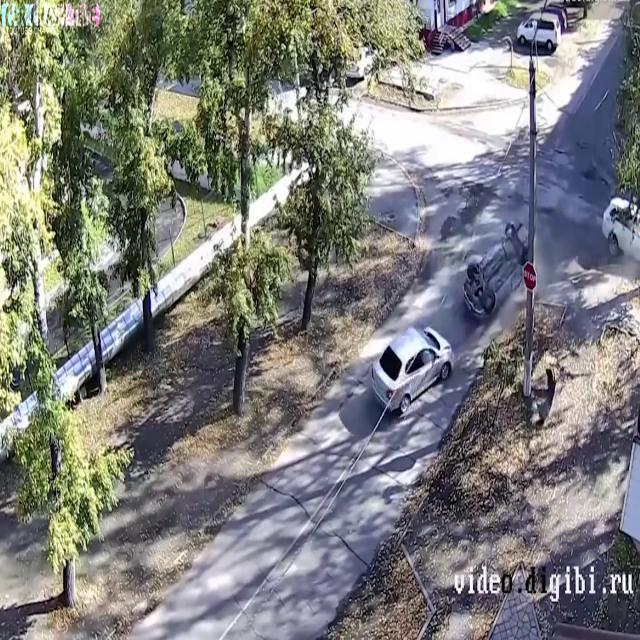Accident: (457, 187, 538, 342), (378, 322, 460, 440)
